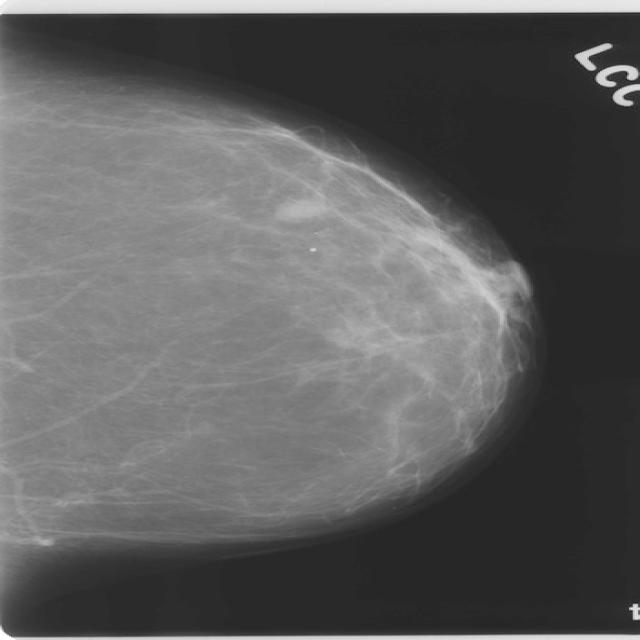tumour: (273, 195, 331, 222)
